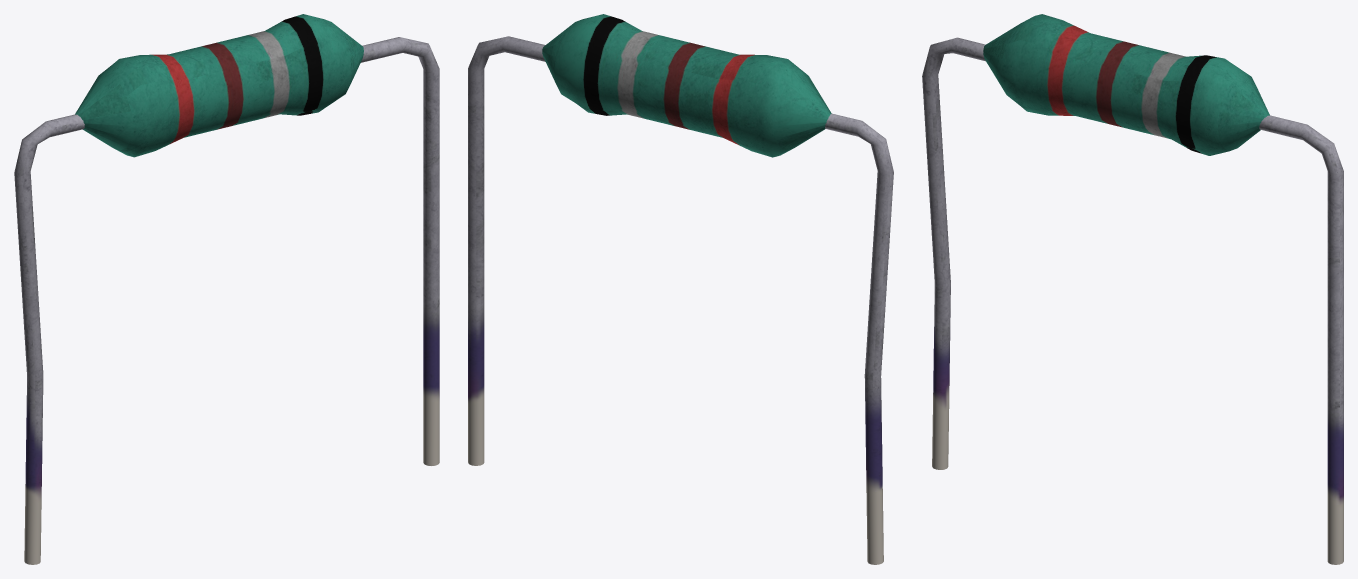
The model's file is inductance.glb.
3 renders of one model, left to right at view 1: azimuth 30°, elevation 25°; view 2: azimuth 150°, elevation 25°; view 3: azimuth 330°, elevation 25°, orthographic.
Parts seen in each view (by area): view 1: Cylinder002; view 2: Cylinder002; view 3: Cylinder002.
Boxes of the visible parts, x1,y1,x2,y2 form: Cylinder002: (14, 14, 439, 564); Cylinder002: (468, 14, 893, 564); Cylinder002: (922, 14, 1343, 564).
Size of the model in its own units: 0.1352 by 0.1457 by 0.0221.
Materials: 1 (1 with a texture image).
